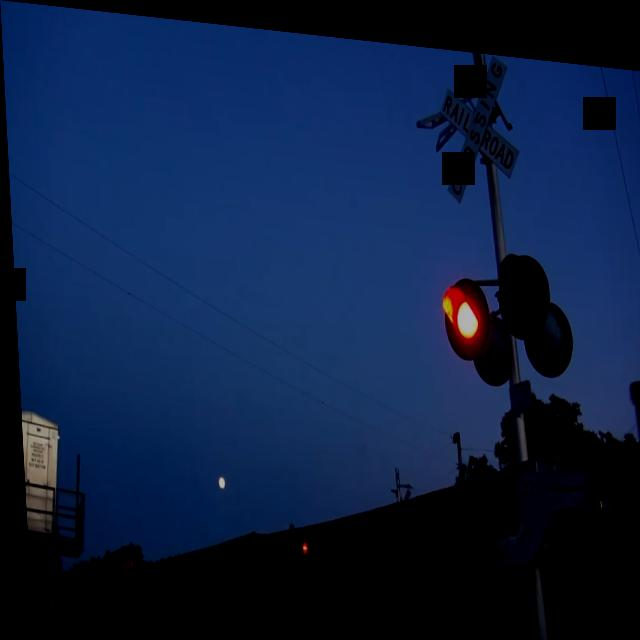gondola: (244, 384, 640, 640), (167, 497, 262, 640)
